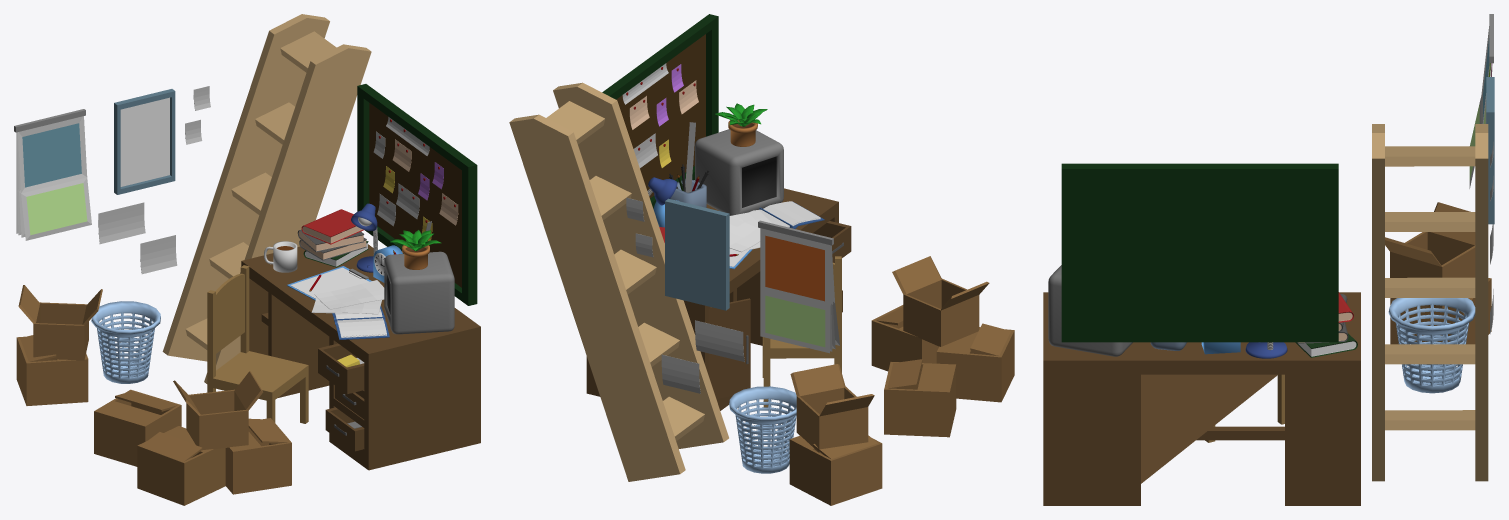
Rendered from isometric underground.fbx.
3 renders of one model, left to right at view 1: azimuth 30°, elevation 25°; view 2: azimuth 150°, elevation 25°; view 3: azimuth 270°, elevation 25°, orthographic. The views are drawn at different scales.
Parts seen in each view (by area): view 1: Cube.003, Cube, Cube.001, Cube.006, Cube.004, Cube.005, Cube.012, Cube.017, Cube.013, Cylinder.010, Cube.010, Cube.011 (+14 smaller); view 2: Cube.003, Cube.001, Cube.006, Cube, Cube.005, Cube.017, Cube.010, Cube.013, Cube.007, Cube.008, Cylinder.010, Cube.012 (+9 smaller); view 3: Cube.001, Cube, Cube.003, Cylinder.010, Cube.007, Cube.017, Cube.008, Cube.005, Cube.006, Cylinder, Circle.
Boxes of the visible parts, box(x1,y1,x2,y2) form: Cube.003: box(162, 14, 371, 383); Cube: box(241, 244, 480, 470); Cube.001: box(357, 84, 477, 305); Cube.006: box(14, 109, 91, 240); Cube.004: box(207, 265, 308, 423); Cube.005: box(114, 89, 175, 194); Cube.012: box(137, 426, 225, 505); Cube.017: box(384, 251, 454, 334); Cube.013: box(94, 389, 181, 466); Cylinder.010: box(91, 301, 160, 383); Cube.010: box(173, 371, 263, 450); Cube.011: box(225, 418, 291, 494); Cube.003: box(509, 82, 728, 481); Cube.001: box(602, 14, 718, 208); Cube.006: box(758, 220, 839, 353); Cube: box(586, 188, 851, 410); Cube.005: box(665, 198, 729, 310); Cube.017: box(695, 129, 783, 215); Cube.010: box(892, 256, 989, 346); Cube.013: box(884, 359, 956, 437); Cube.007: box(790, 364, 874, 452); Cube.008: box(789, 435, 882, 505); Cylinder.010: box(729, 386, 796, 473); Cube.012: box(936, 323, 1014, 402); Cube.001: box(1061, 163, 1338, 342); Cube: box(1043, 292, 1360, 505); Cube.003: box(1372, 124, 1488, 481); Cylinder.010: box(1388, 298, 1475, 393); Cube.007: box(1385, 202, 1475, 308); Cube.017: box(1048, 265, 1132, 356); Cube.008: box(1390, 278, 1491, 344); Cube.005: box(1486, 77, 1494, 224); Cube.006: box(1469, 14, 1493, 188); Cylinder: box(1295, 333, 1357, 357); Circle: box(1245, 342, 1287, 358).
Size of the model in its own units: 207 by 195 by 198.
